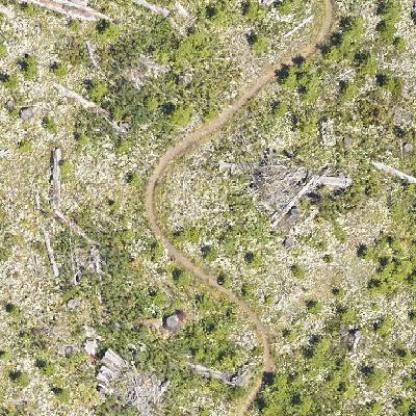tree-top: (96, 18, 122, 42), (246, 31, 270, 55), (352, 51, 378, 73), (362, 367, 384, 391), (20, 54, 40, 80), (170, 101, 192, 124), (198, 242, 218, 263)
